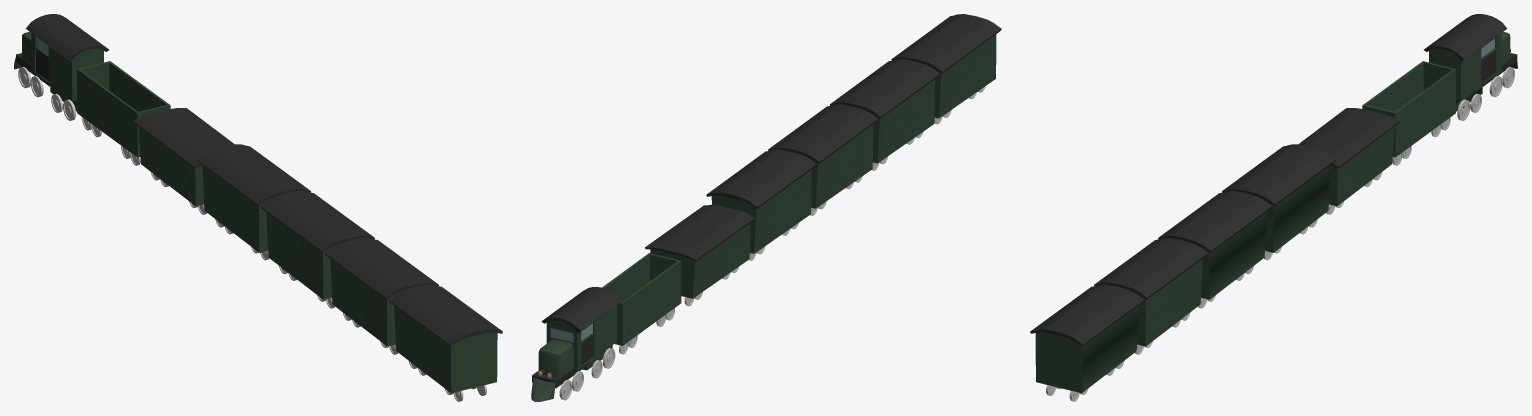
File: CargoTrain.FBX
3 renders of one model, left to right at view 1: azimuth 30°, elevation 25°; view 2: azimuth 150°, elevation 25°; view 3: azimuth 330°, elevation 25°, orthographic. The views are drawn at different scales.
Visible parts, largest first — view 1: Towarowy; view 2: Towarowy; view 3: Towarowy.
Boxes of the visible parts, x1,y1,x2,y2 form: Towarowy: (14,14,502,401); Towarowy: (531,14,1001,401); Towarowy: (1030,14,1517,401).
Size of the model in its own units: 6163 by 91840 by 8400.
1 material, 1 textured.
